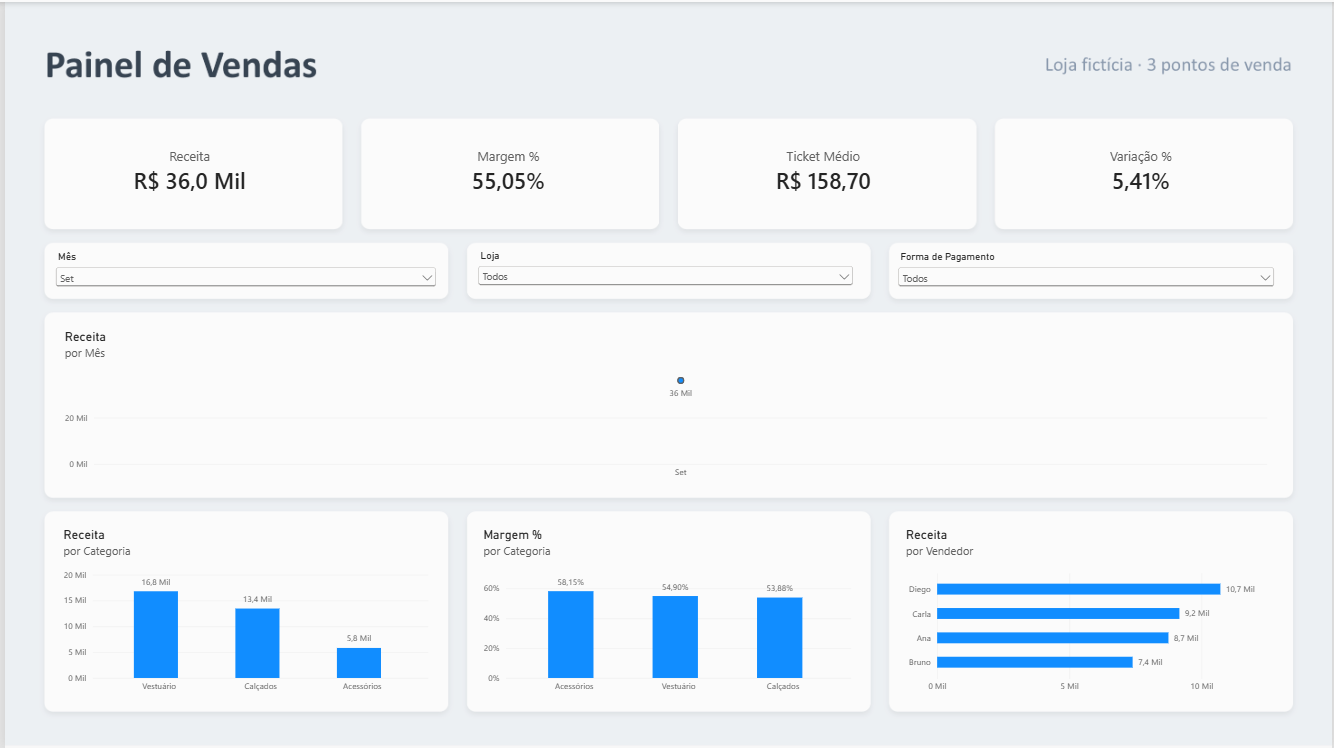

The dashboard page shown, as its layout file describes it:
{"tool":"powerbi","page":{"name":"Página 1","canvas":[1920,1080],"ordinal":0},"visuals":[{"type":"cardVisual","fields":{"Data":["Medidas.Receita"]},"box":[69.5,172.8,397.2,147],"z":0},{"type":"cardVisual","fields":{"Data":["Medidas.Margem %"]},"box":[530.2,172.8,397,147],"z":1000},{"type":"cardVisual","fields":{"Data":["Medidas.Ticket Médio"]},"box":[987,172.8,397.2,147],"z":2000},{"type":"cardVisual","fields":{"Data":["Medidas.Variação %"]},"box":[1445.8,172.8,397,147],"z":3000},{"type":"lineChart","fields":{"Category":["Calendario.Mês Nome"],"Y":["Medidas.Receita"]},"box":[70.1,458.8,1772.5,250.2],"z":4000},{"type":"columnChart","fields":{"Category":["Vendas.categoria"],"Y":["Medidas.Receita"]},"box":[69.5,744.7,560,274.1],"z":5000},{"type":"clusteredBarChart","fields":{"Category":["Vendas.vendedor"],"Y":["Medidas.Receita"]},"box":[1288.9,744.7,554.1,274.1],"z":6000},{"type":"columnChart","fields":{"Category":["Vendas.categoria"],"Y":["Medidas.Margem %"]},"box":[677.2,744.7,564,274.1],"z":7000},{"type":"slicer","fields":{"Values":["Vendas.loja"]},"box":[681.2,357.5,552.1,69.5],"z":8000},{"type":"slicer","fields":{"Values":["Calendario.Mês Nome"]},"box":[69.5,359.5,560,61.6],"z":9000},{"type":"slicer","fields":{"Values":["Vendas.pagamento"]},"box":[1288.9,359.5,554.1,61.6],"z":10000}]}

Visuals, with their boxes in screenshot pixels (x1, y1, x2, y2), scaled from the page's 1920x1080 canvas onto the 1334x748 screenshot:
cardVisual - Medidas.Receita: [left=48, top=120, right=324, bottom=221]
cardVisual - Medidas.Margem %: [left=368, top=120, right=644, bottom=221]
cardVisual - Medidas.Ticket Médio: [left=686, top=120, right=962, bottom=221]
cardVisual - Medidas.Variação %: [left=1005, top=120, right=1280, bottom=221]
lineChart - Calendario.Mês Nome x Medidas.Receita: [left=49, top=318, right=1280, bottom=491]
columnChart - Vendas.categoria x Medidas.Receita: [left=48, top=516, right=437, bottom=706]
clusteredBarChart - Vendas.vendedor x Medidas.Receita: [left=896, top=516, right=1281, bottom=706]
columnChart - Vendas.categoria x Medidas.Margem %: [left=471, top=516, right=862, bottom=706]
slicer - Vendas.loja: [left=473, top=248, right=857, bottom=296]
slicer - Calendario.Mês Nome: [left=48, top=249, right=437, bottom=292]
slicer - Vendas.pagamento: [left=896, top=249, right=1281, bottom=292]
